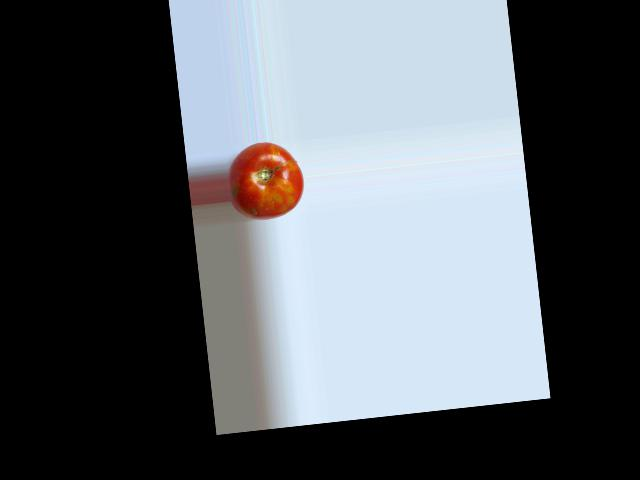tomato: (224, 138, 306, 223)
